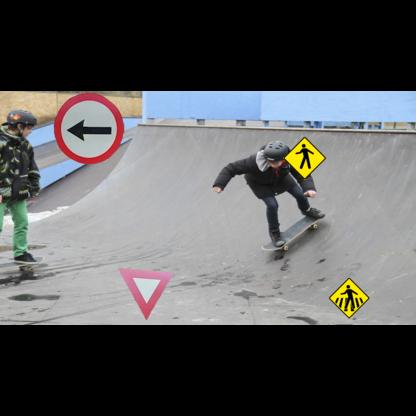A-32a: (283, 136, 326, 180)
A-32b: (328, 277, 370, 319)
R-2: (118, 268, 173, 320)
R-24a: (54, 93, 124, 164)
